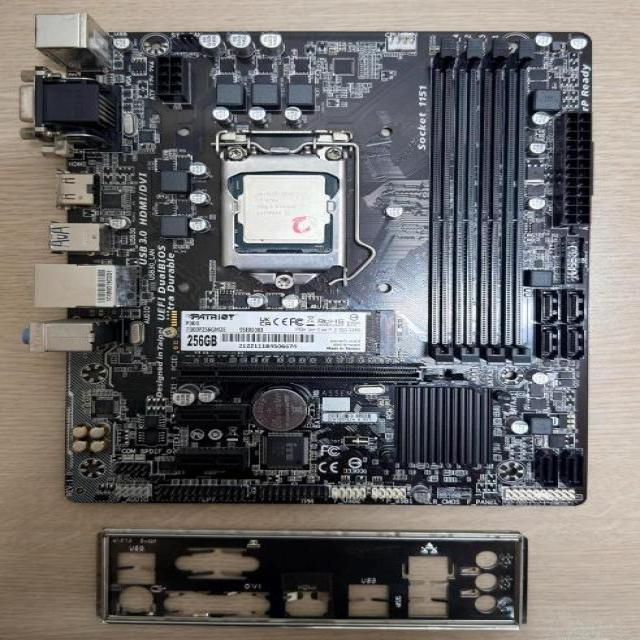CPU: (240, 174, 330, 247)
